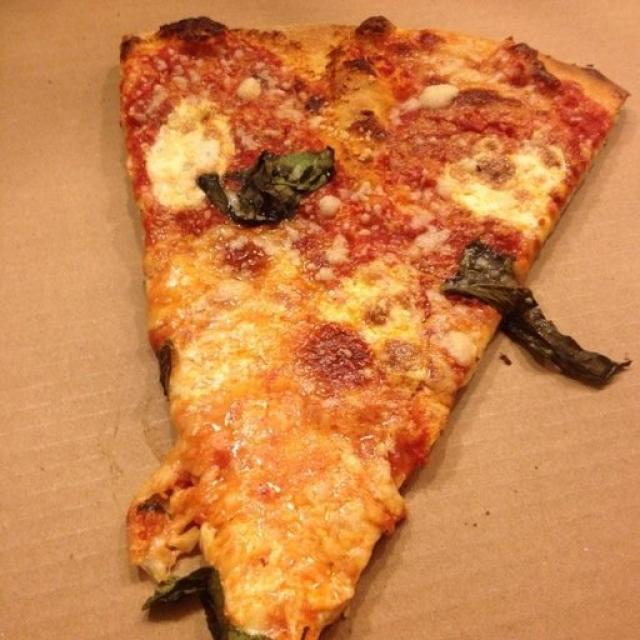Basil: (454, 243, 628, 383), (200, 150, 332, 225)
Pizza: (118, 16, 626, 640)
